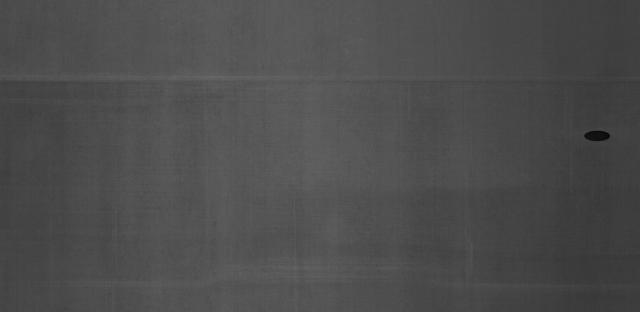punching_hole: (580, 126, 614, 145)
welding_line: (2, 67, 638, 91)
